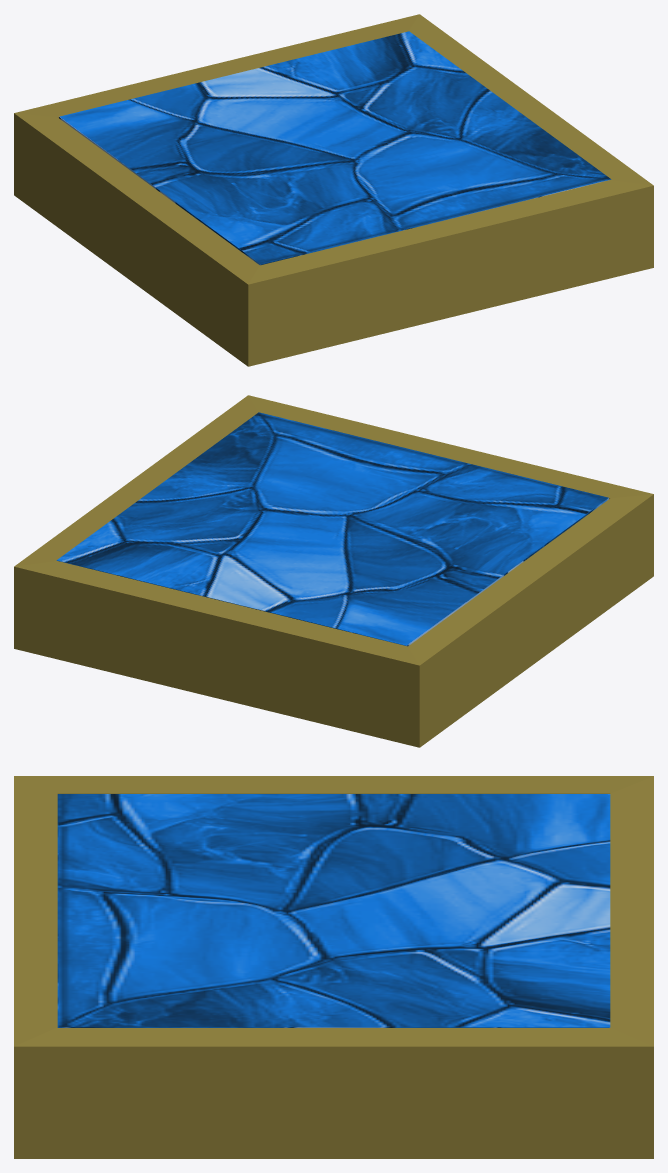
The model's file is squarePressed.glb.
3 views of the same model, one above another, from view 1: azimuth 30°, elevation 25°; view 2: azimuth 150°, elevation 25°; view 3: azimuth 270°, elevation 25° (orthographic). The views are drawn at different scales.
Visible parts, largest first — view 1: Cube.003; view 2: Cube.003; view 3: Cube.003.
Boxes of the visible parts, box(x1,y1,x2,y2) form: Cube.003: box(14, 14, 653, 366); Cube.003: box(14, 395, 653, 747); Cube.003: box(14, 776, 653, 1158).
Bounding box in the file's own units: 1 × 0.201 × 1.
Materials: 2 (1 with a texture image).
